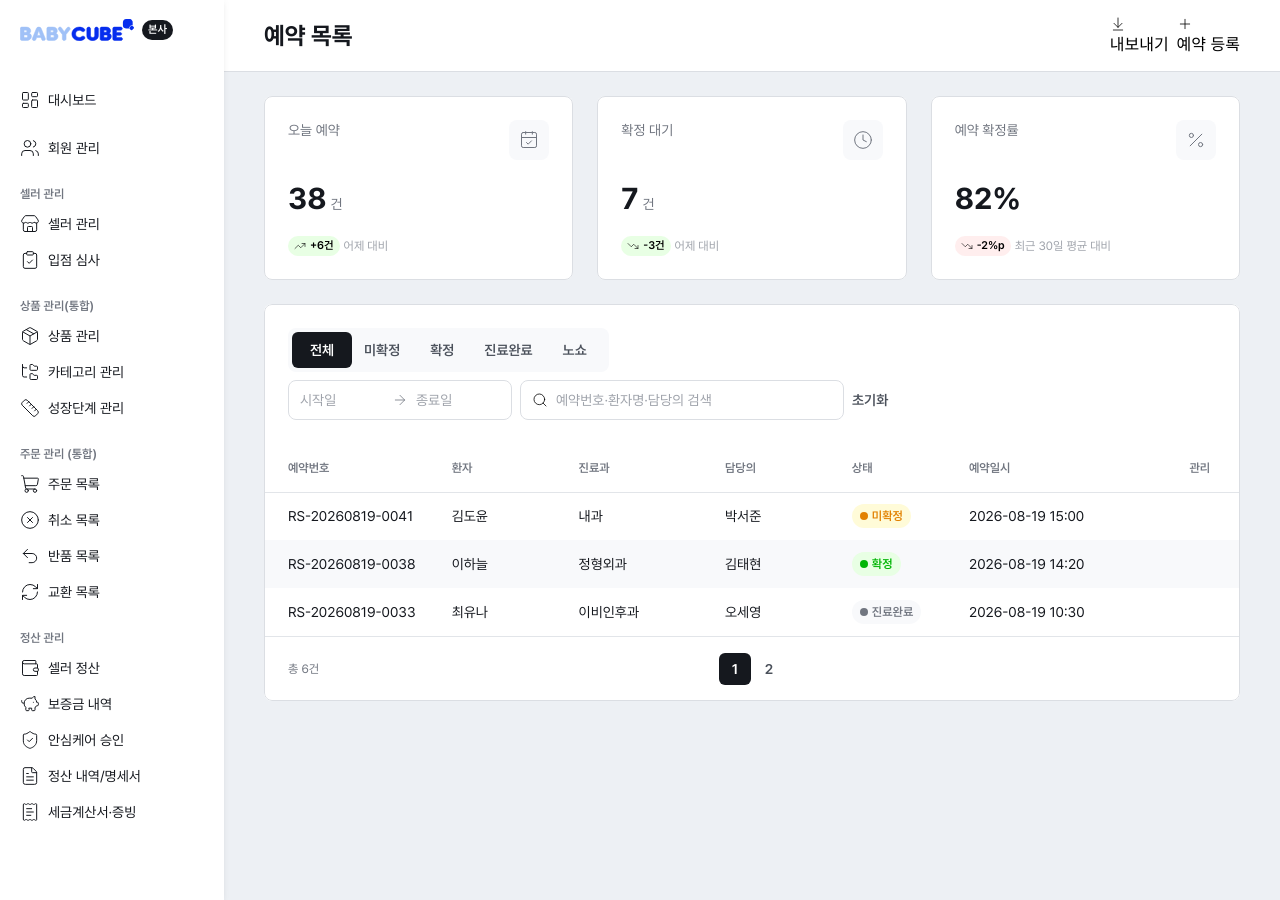
Test: ReservationListPage › 필터 (SegmentedControl) › 미확정을 고르면 미확정 예약만 남는다
The image size is (1280, 900).
Click the radio button labelled "미확정" at (382, 350), box [352,332,412,368]
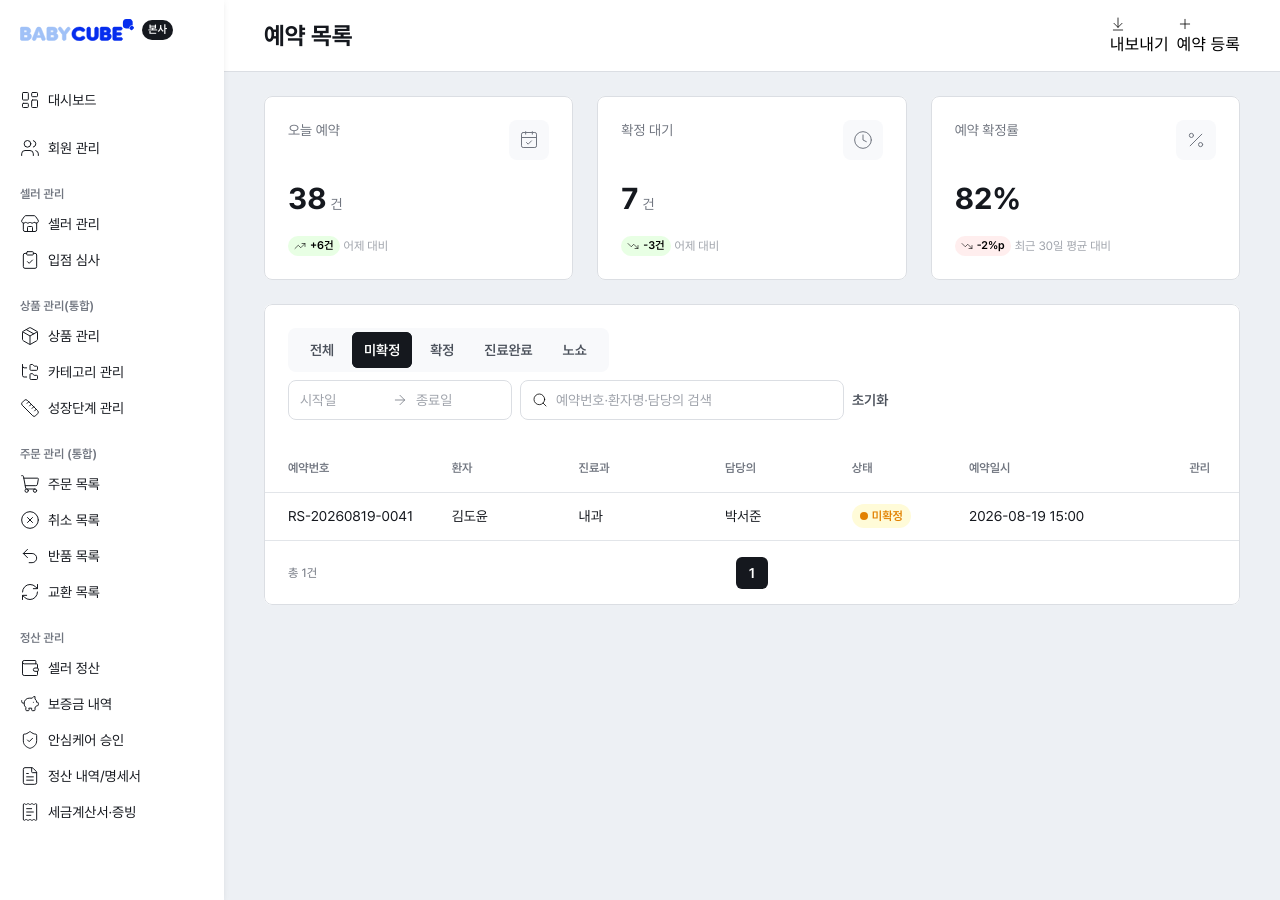
Result: the text "총 1건" is shown at [288,564,317,580]
